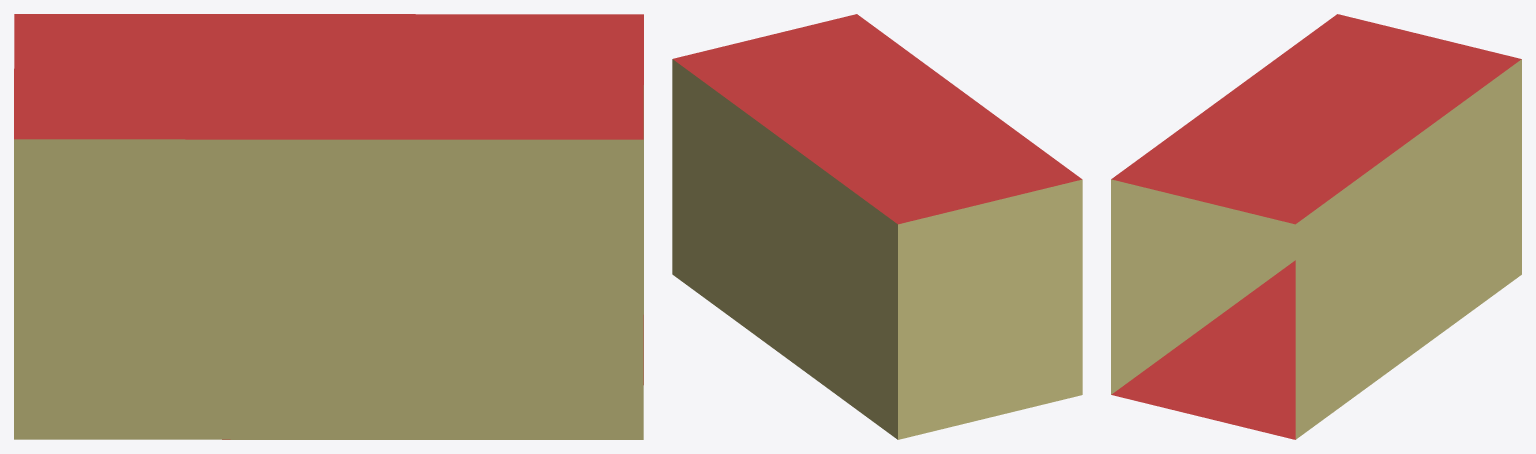
The picture shows the model from 3 angles, left to right: view 1: azimuth 30°, elevation 25°; view 2: azimuth 150°, elevation 25°; view 3: azimuth 270°, elevation 25°; orthographic projection. The views are drawn at different scales.
Visible parts, largest first — view 1: group_4, group_3; view 2: group_4, group_3; view 3: group_4, group_3, group_5.
Part boxes in pixels (x1,y1,x2,y2): group_4: [14, 85, 643, 439]; group_3: [14, 14, 643, 139]; group_4: [672, 59, 1082, 439]; group_3: [673, 14, 1082, 224]; group_4: [1111, 59, 1521, 439]; group_3: [1111, 14, 1521, 224]; group_5: [1111, 260, 1295, 439].
Size of the model in its own units: 21.05 by 17.36 by 10.05.
